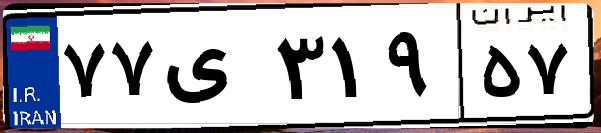1: (330, 28, 385, 110)
3: (270, 28, 330, 110)
5: (475, 38, 525, 113)
7: (57, 26, 110, 100), (525, 38, 570, 115), (110, 28, 158, 98)
9: (385, 28, 445, 110)
ی: (158, 20, 270, 120)
